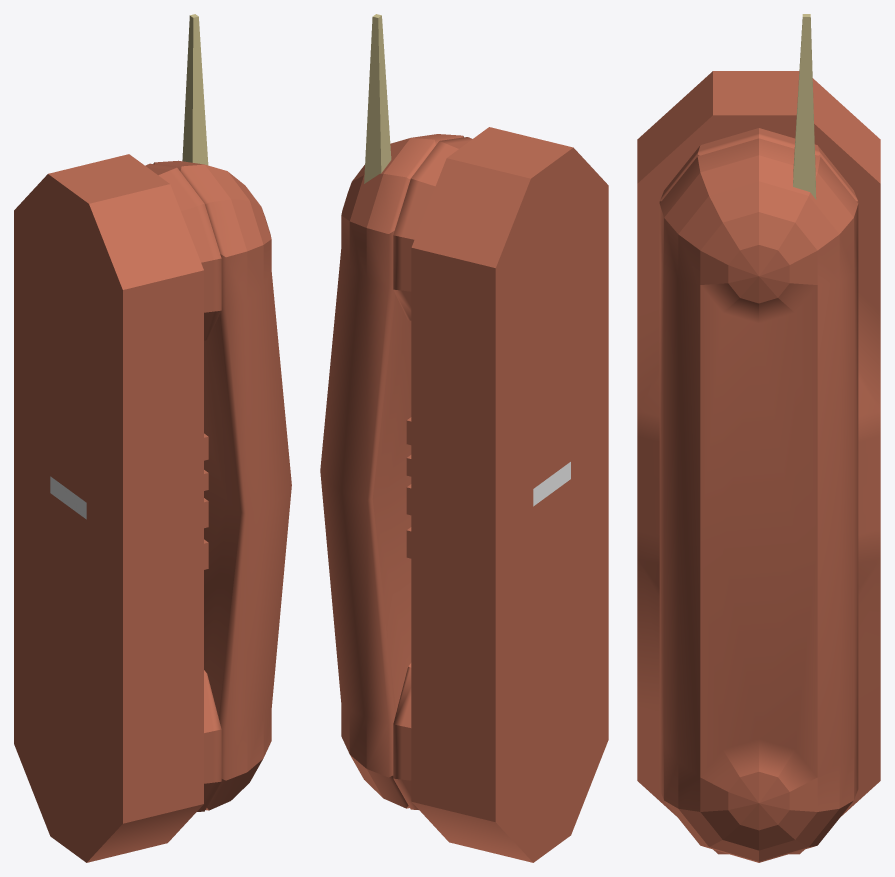
The model's file is phone.obj.
3 renders of one model, left to right at view 1: azimuth 30°, elevation 25°; view 2: azimuth 150°, elevation 25°; view 3: azimuth 270°, elevation 25°, orthographic. The views are drawn at different scales.
Visible parts, largest first — view 1: phone; view 2: phone; view 3: phone.
Part boxes in pixels (x1,y1,x2,y2): phone: (14, 14, 291, 862); phone: (320, 14, 608, 862); phone: (637, 14, 880, 862).
Bounding box in the file's own units: 0.506 × 1.92 × 0.4834.
3 materials, 3 textured.
